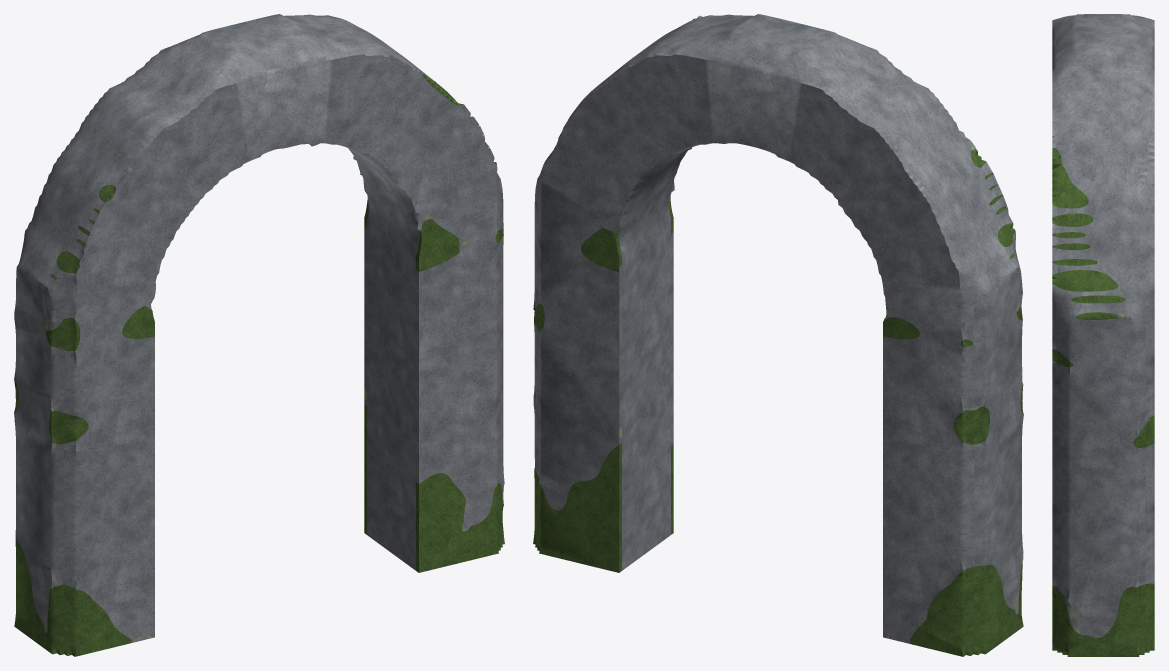
File: ruin_doorway_arch.glb
3 renders of one model, left to right at view 1: azimuth 30°, elevation 25°; view 2: azimuth 150°, elevation 25°; view 3: azimuth 270°, elevation 25°, orthographic. The views are drawn at different scales.
Visible parts, largest first — view 1: wilds_ruins_ruin_doorway_arch; view 2: wilds_ruins_ruin_doorway_arch; view 3: wilds_ruins_ruin_doorway_arch.
Boxes of the visible parts, x1,y1,x2,y2 form: wilds_ruins_ruin_doorway_arch: (14,14,504,656); wilds_ruins_ruin_doorway_arch: (533,14,1023,656); wilds_ruins_ruin_doorway_arch: (1052,14,1154,656).
Bounding box in the file's own units: 3 × 3.5 × 0.625.
Materials: 3 (3 with a texture image).
